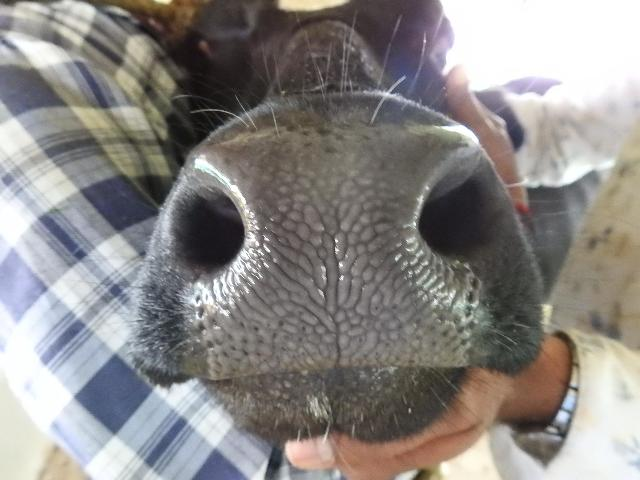Muzzle: (206, 150, 460, 366)
